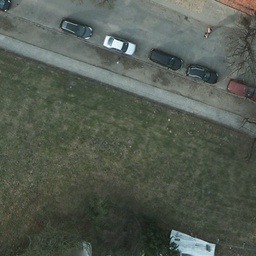car: (149, 50, 180, 74), (185, 64, 219, 85), (60, 19, 94, 39), (104, 35, 137, 54), (228, 82, 256, 102)
